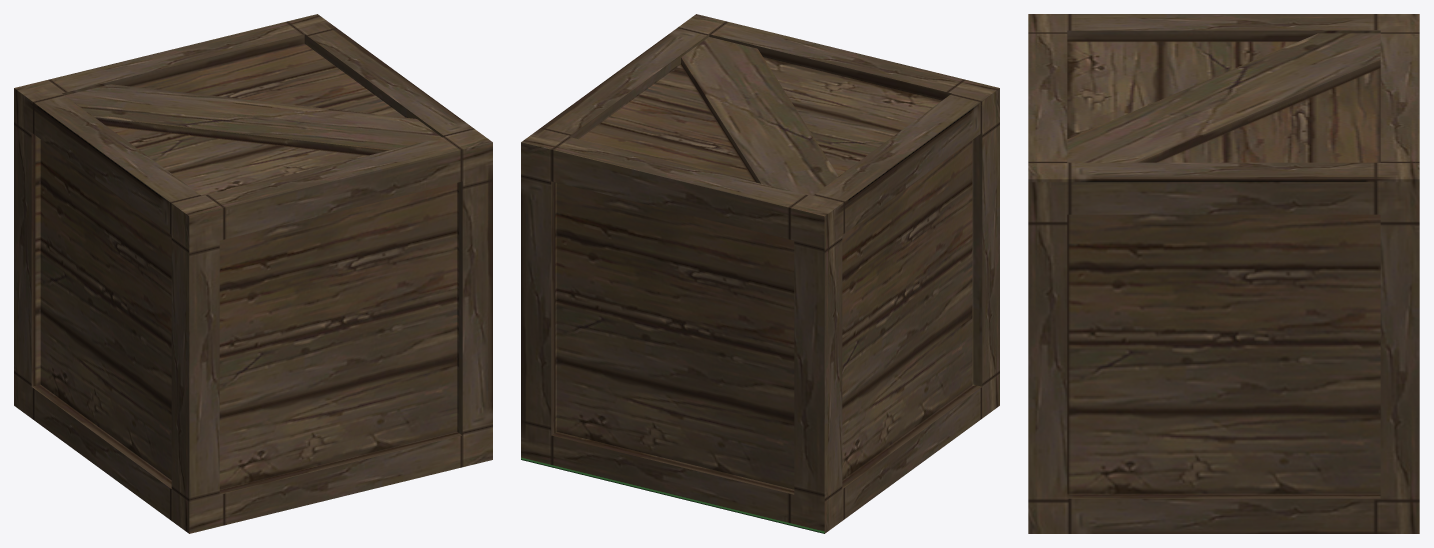
File: crate.gltf
The picture shows the model from 3 angles, left to right: view 1: azimuth 30°, elevation 25°; view 2: azimuth 150°, elevation 25°; view 3: azimuth 270°, elevation 25°; orthographic projection. The views are drawn at different scales.
Visible parts, largest first — view 1: crate3; view 2: crate3; view 3: crate3.
Part boxes in pixels (x1,y1,x2,y2): crate3: (14,14,492,533); crate3: (521,14,999,533); crate3: (1028,14,1419,533).
Bounding box in the file's own units: 0.5 × 0.5 × 0.5.
1 material, 1 textured.
